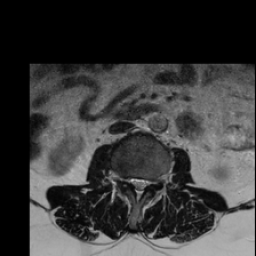CCS_normal: (136, 173, 142, 206)
LFS_severe_stenosis: (150, 173, 156, 193)
LLS_stenosis: (142, 174, 149, 194)
RFS_severe_stenosis: (122, 171, 129, 189)
RLS_stenosis: (130, 173, 136, 191)
